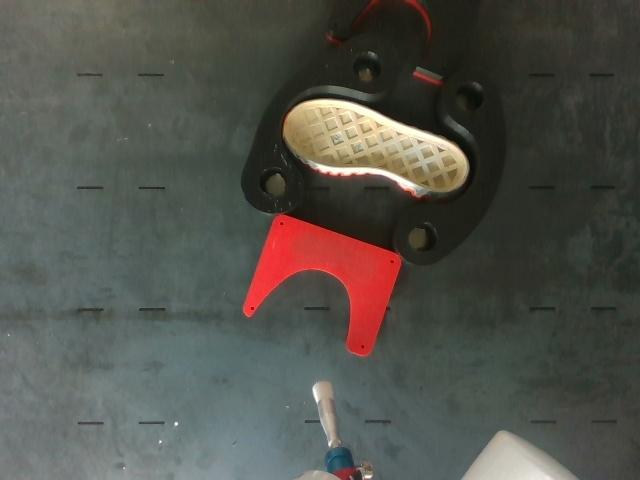shoes: (285, 101, 467, 192)
